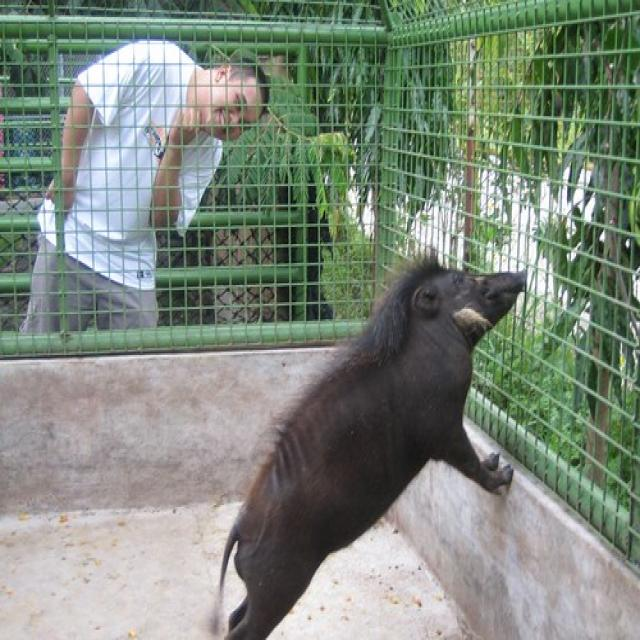boar: (177, 249, 548, 640)
